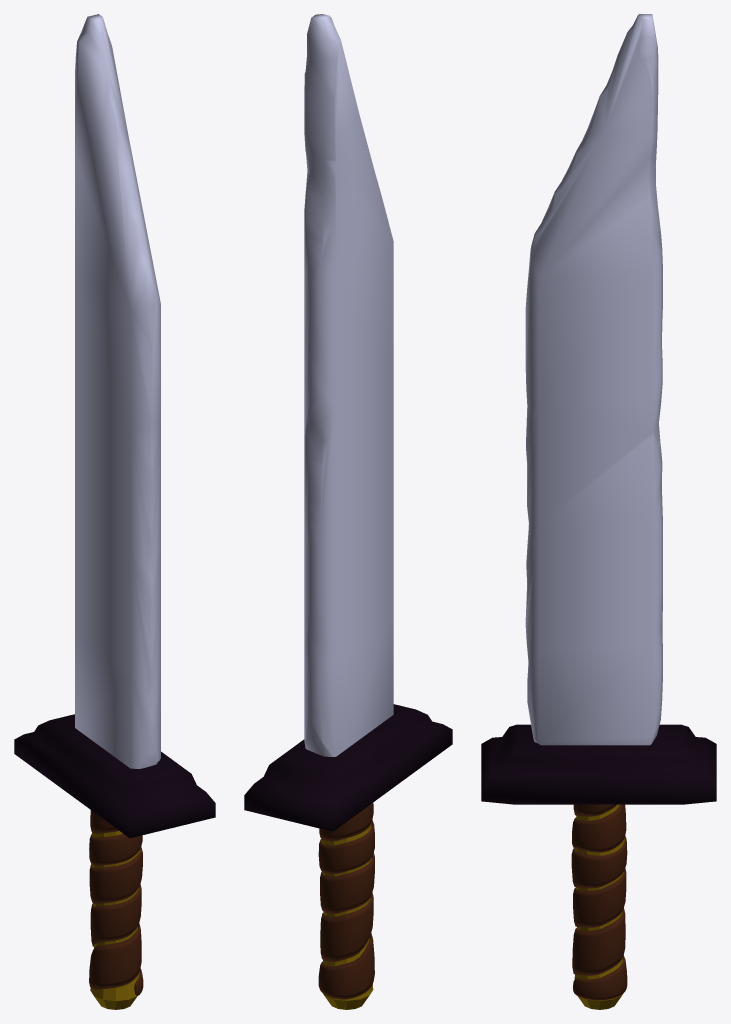
Rendered from GreatSword.fbx.
3 views of the same model, side by side, from view 1: azimuth 30°, elevation 25°; view 2: azimuth 150°, elevation 25°; view 3: azimuth 270°, elevation 25° (orthographic). The views are drawn at different scales.
Visible parts, largest first — view 1: Sword(Export); view 2: Sword(Export); view 3: Sword(Export).
Boxes of the visible parts, x1,y1,x2,y2 form: Sword(Export): (14,14,215,1009); Sword(Export): (244,14,452,1009); Sword(Export): (481,14,716,1009).
Size of the model in its own units: 181 by 1948 by 421.
